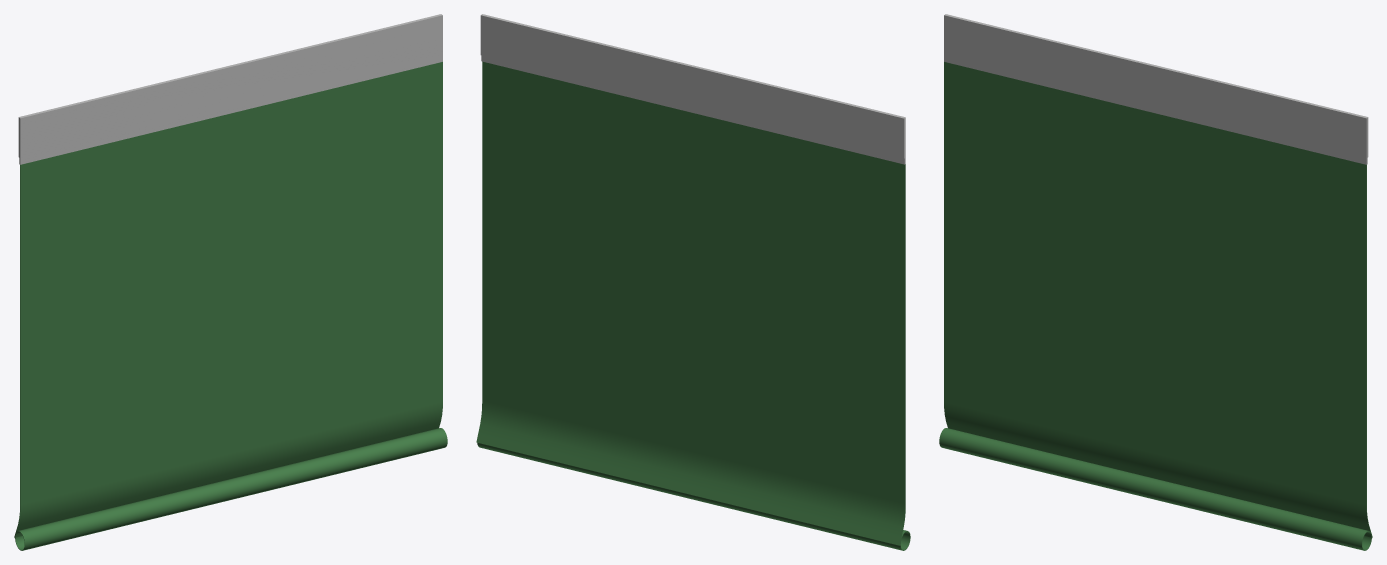
Rendered from ROMAN_SHADES_02.glb.
3 renders of one model, left to right at view 1: azimuth 30°, elevation 25°; view 2: azimuth 150°, elevation 25°; view 3: azimuth 330°, elevation 25°, orthographic.
Parts seen in each view (by area): view 1: polySurface2, polySurface1; view 2: polySurface2, polySurface1; view 3: polySurface2, polySurface1.
Boxes of the visible parts, <box> form: polySurface2: <box>14,62,447,550</box>; polySurface1: <box>18,14,442,164</box>; polySurface2: <box>476,61,910,550</box>; polySurface1: <box>480,14,905,164</box>; polySurface2: <box>939,62,1372,550</box>; polySurface1: <box>944,14,1368,164</box>.
Size of the model in its own units: 47.01 by 45.92 by 2.1.
